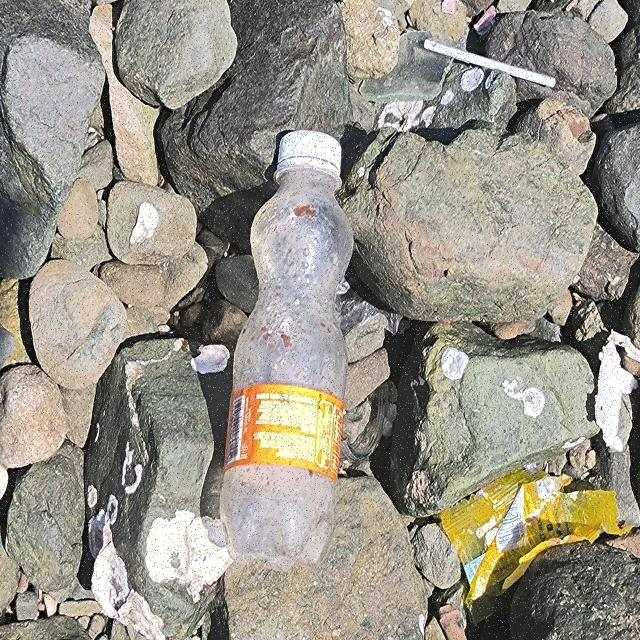plastic_waste: (219, 129, 355, 574), (440, 465, 622, 628), (424, 40, 559, 91)
